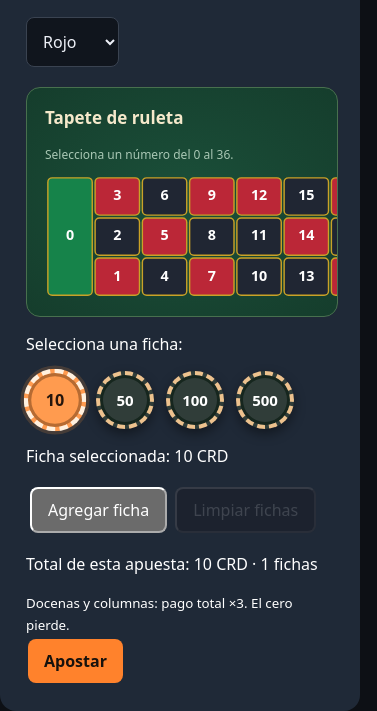
Test: HU08 - Control de saldo insuficiente › no muestra alerta si el saldo es suficiente
The width and height of the screenshot is (377, 711).
(page scrolled)
Click the button "Apostar". click: (75, 661)
box: [28,639,123,683]
(page scrolled)
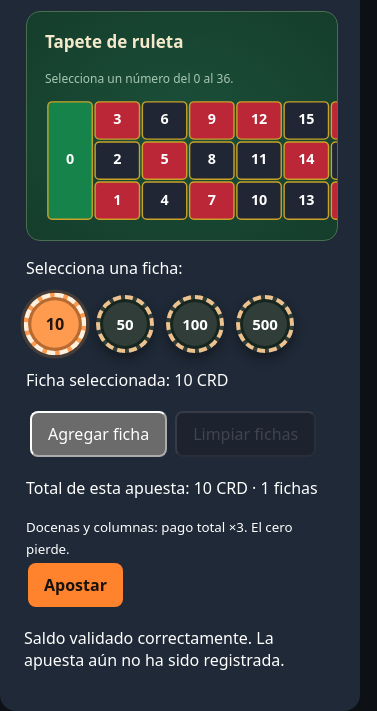
Check: the text "Saldo validado correctamente. La apuesta aún no ha sido registrada." is shown, box [24,627,284,671]
